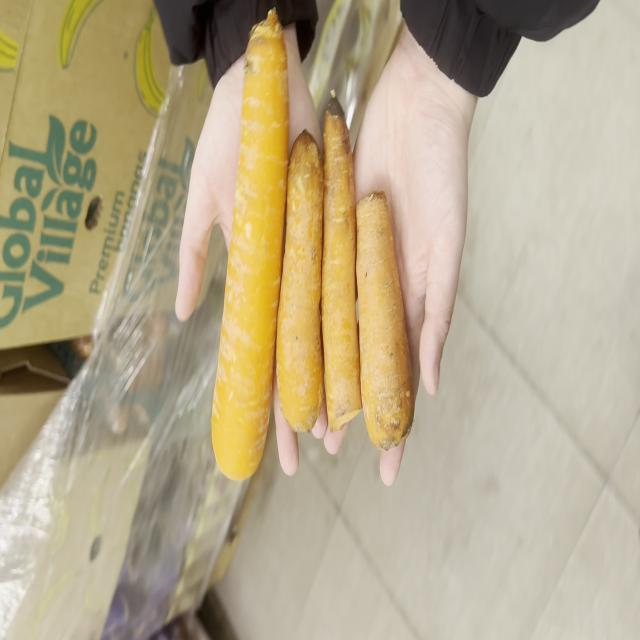carrot: (211, 11, 289, 481), (356, 192, 414, 450), (276, 130, 324, 432), (321, 97, 361, 430)
